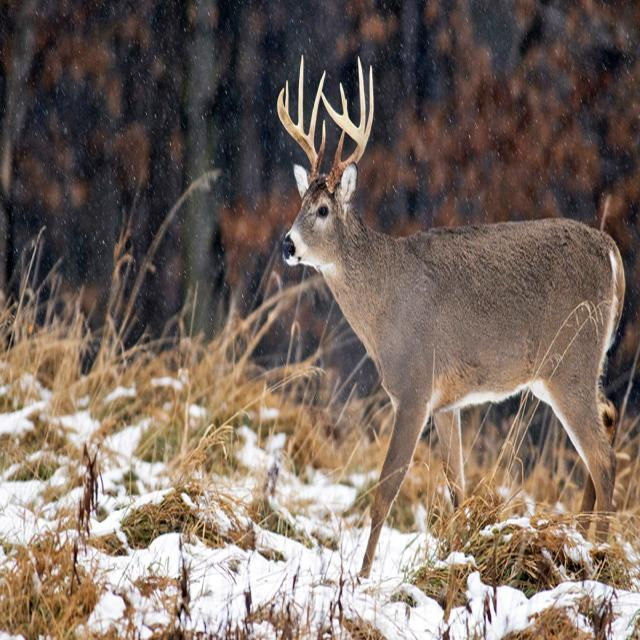L-F: (320, 91, 366, 193)
L-G1: (332, 131, 345, 169)
L-G2: (307, 70, 326, 148), (364, 64, 374, 146)
L-G3: (357, 55, 365, 133)
R-G1: (316, 119, 326, 165)
R-G3: (297, 54, 304, 130)
